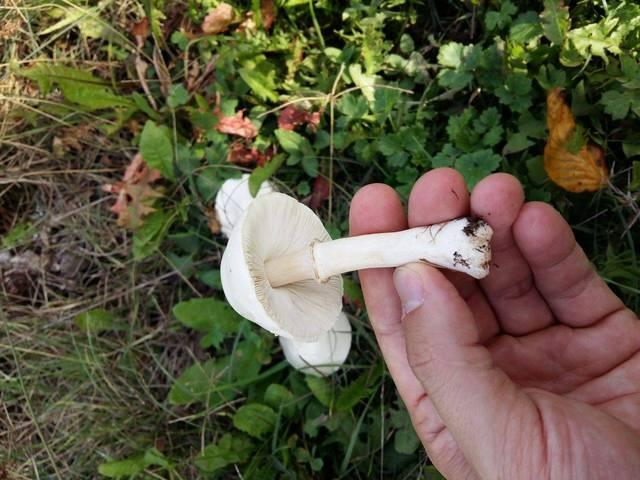Non-edible Mushroom: (204, 164, 490, 382)
